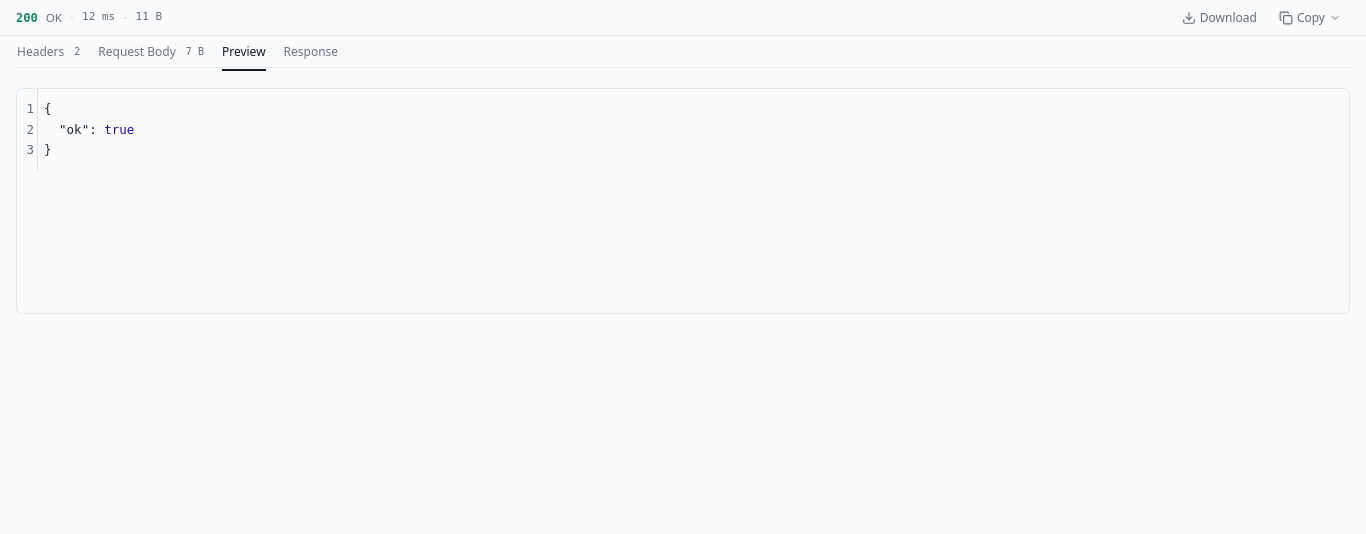
Scenario: ResponsePanel — tabs › lists cookies when the response set any
What coordinates should you click on to do the following:
click the tab "Headers 2"
I would click on:
 (49, 52)
Its box is [16,36,81,66].
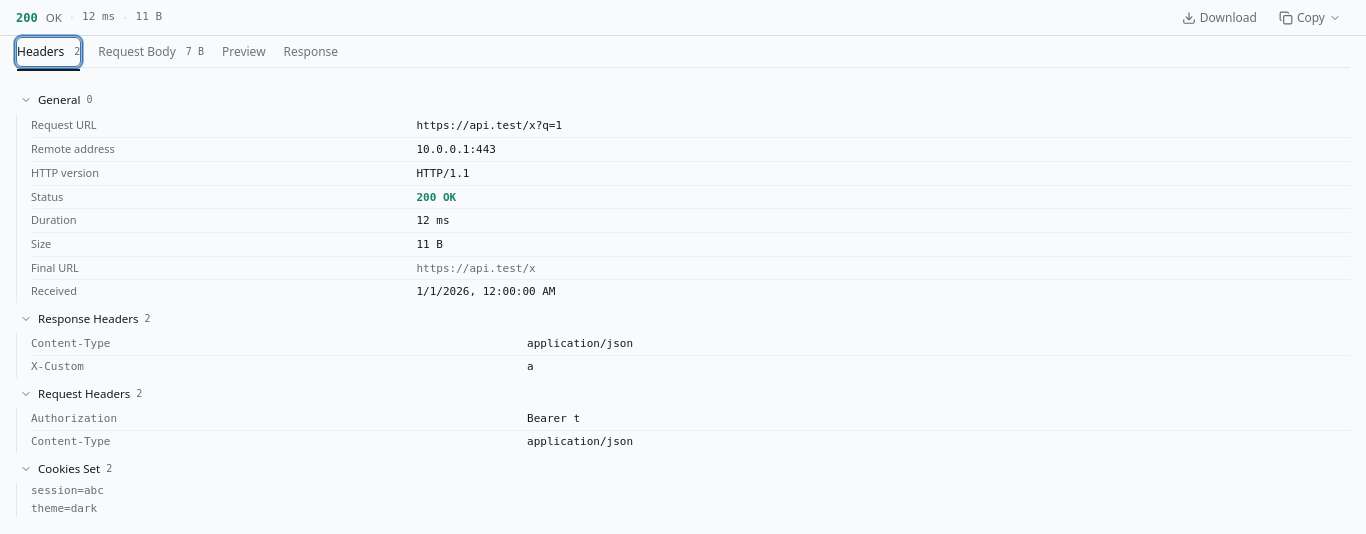
Expected: the text "Cookies Set" is shown, [38,461,100,477]
Expected: the text "session=abc" is shown, [31,484,104,497]
